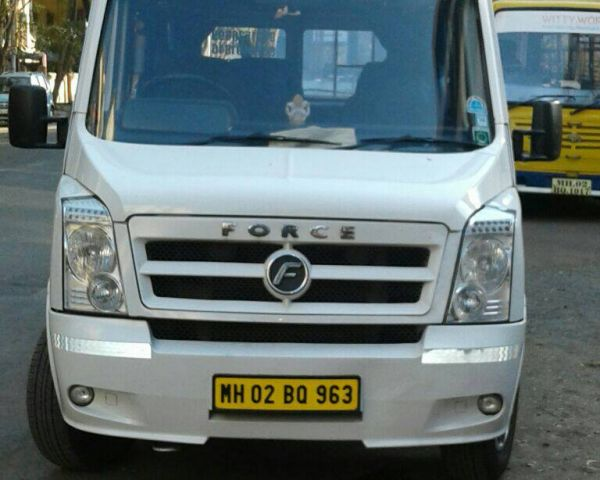numberplate: (210, 370, 363, 415)
